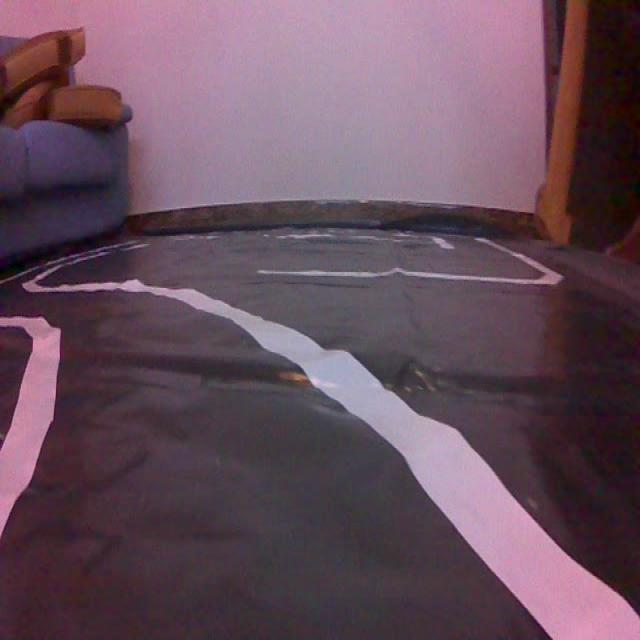LineaCarril: (25, 273, 640, 638), (0, 317, 61, 536)
